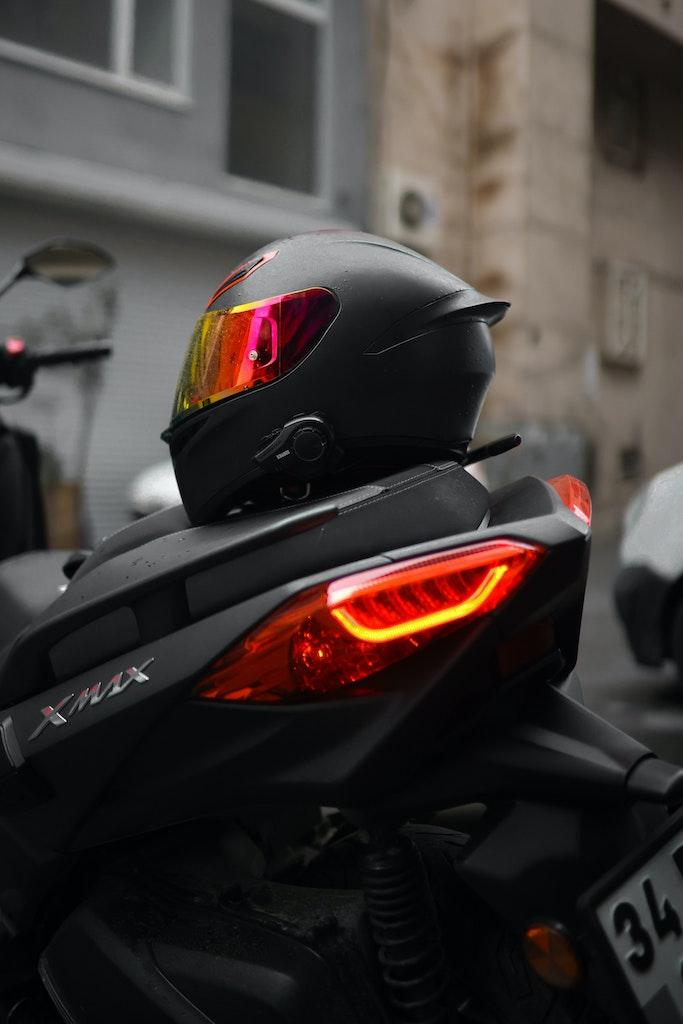helmet: (159, 227, 514, 530)
